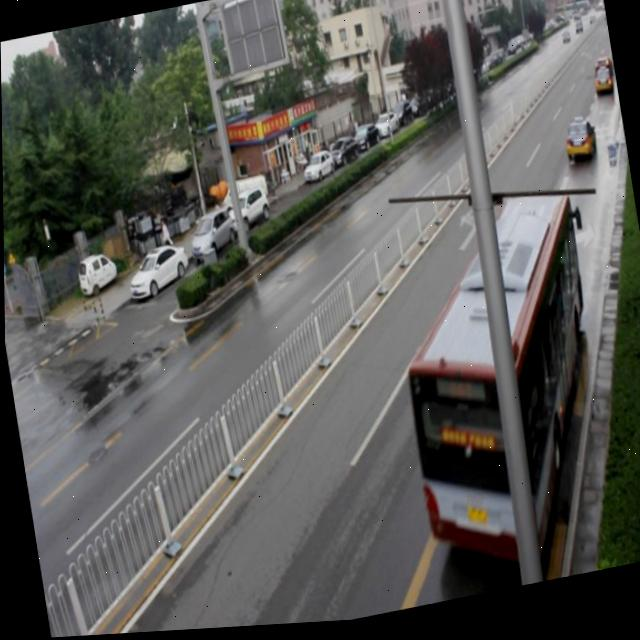car: (560, 119, 596, 172)
van: (380, 189, 624, 581)
